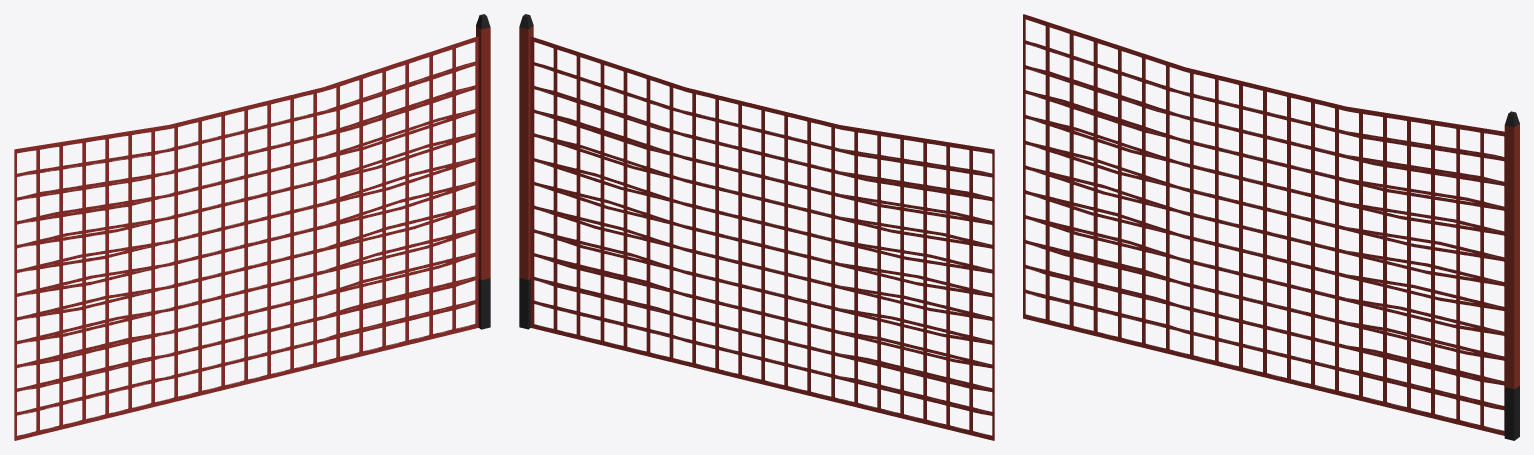
Rendered from HX-lanwang.FBX.
3 views of the same model, side by side, from view 1: azimuth 30°, elevation 25°; view 2: azimuth 150°, elevation 25°; view 3: azimuth 330°, elevation 25° (orthographic). The views are drawn at different scales.
Parts seen in each view (by area): view 1: lanwang; view 2: lanwang; view 3: lanwang.
Part boxes in pixels (left/top/right/bottom): lanwang: left=14, top=14, right=490, bottom=440; lanwang: left=519, top=14, right=994, bottom=440; lanwang: left=1023, top=14, right=1519, bottom=440.
Bounding box in the file's own units: 1531 × 962 × 30.03.
